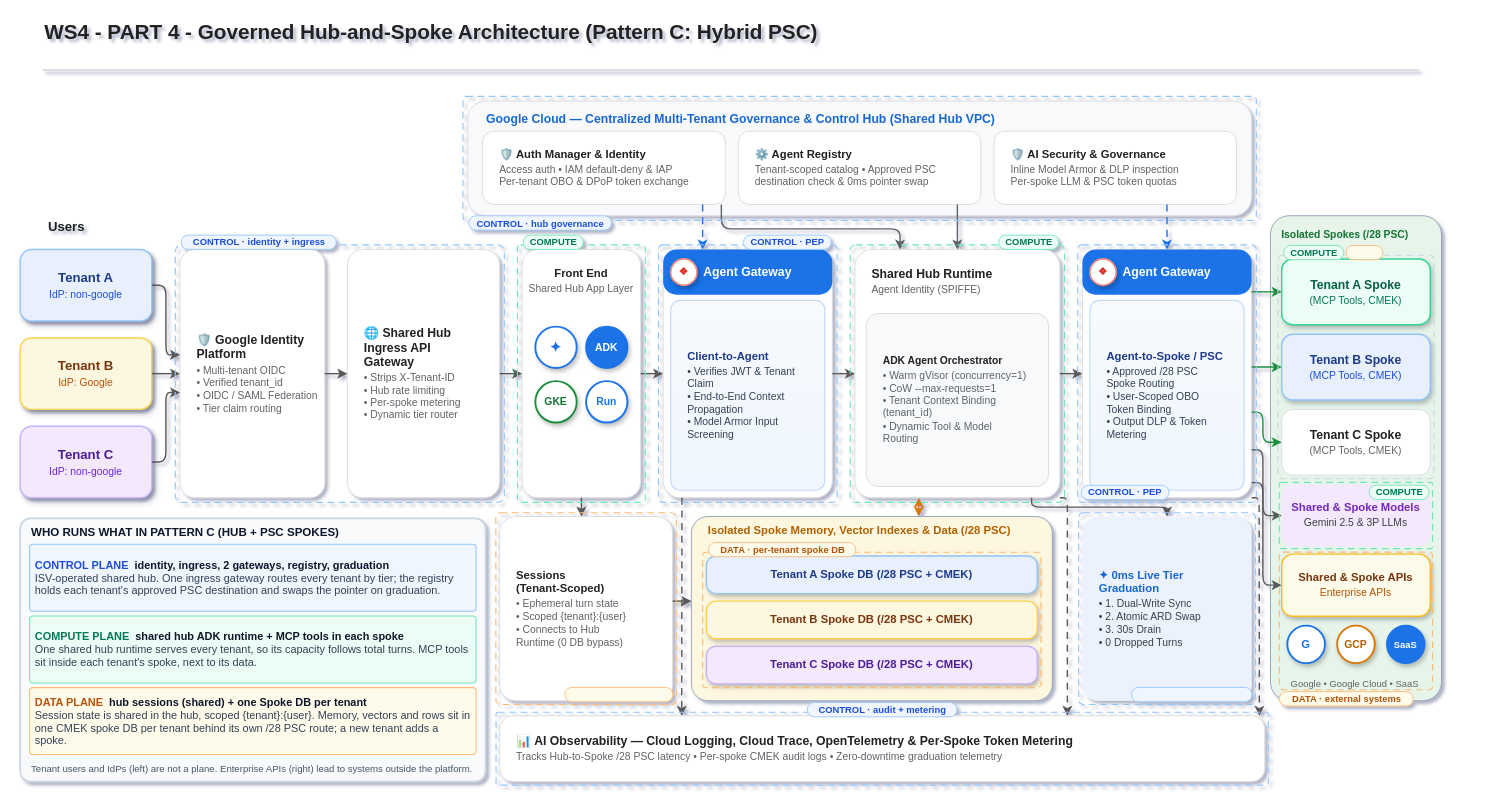
Some shapes in this 1496 by 807 pixel diagram are drawn without their labels. Here are the shapes that lost their labels. From the top down, the centre of each, then its label:
(x=1364, y=252): DATA
(x=618, y=694): DATA · hub sessions
(x=1191, y=694): CONTROL · graduation
